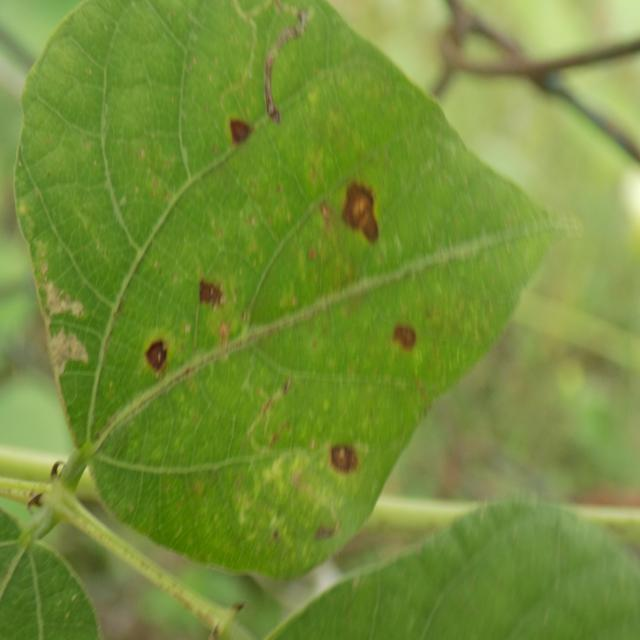Dolicos bean_cercospora leaf spot: (19, 0, 577, 579)
